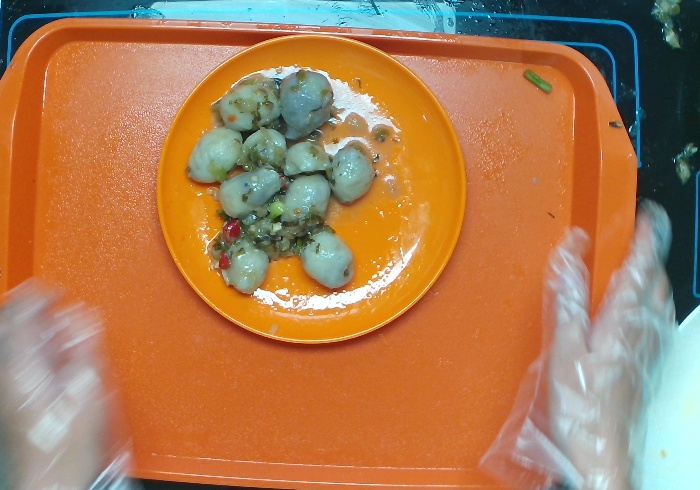HZYJPL-Ju_Huang_Yuan_Pan: (154, 31, 469, 347)
